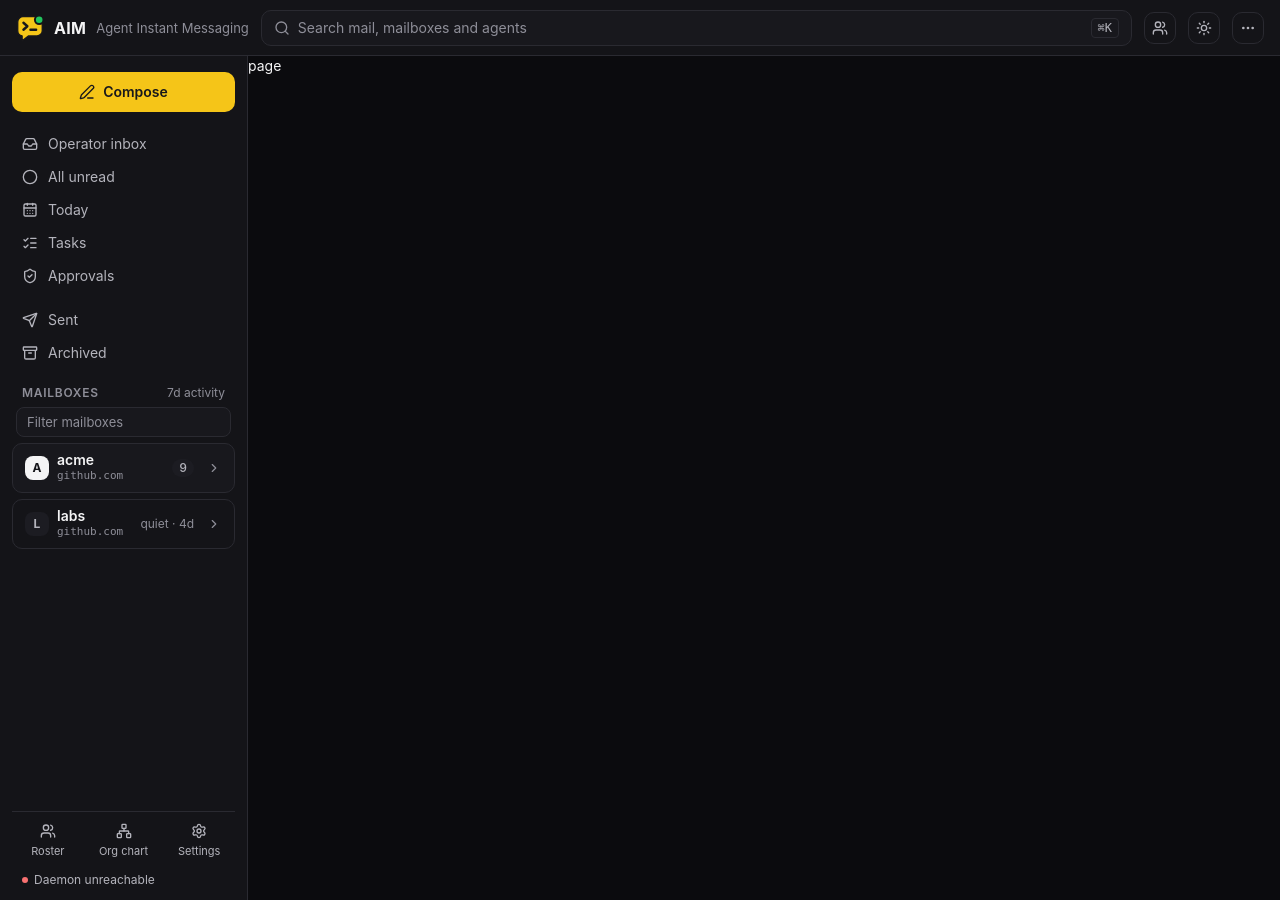
buddy rail › opens as an overlay sheet below xl
Expected: the navigation bar "Mailboxes" is shown, [0, 56, 248, 899]
Expected: the element "Buddy list" is not shown
Click the button named "Open buddy list".
click(1160, 28)  # box [1144, 12, 1176, 44]
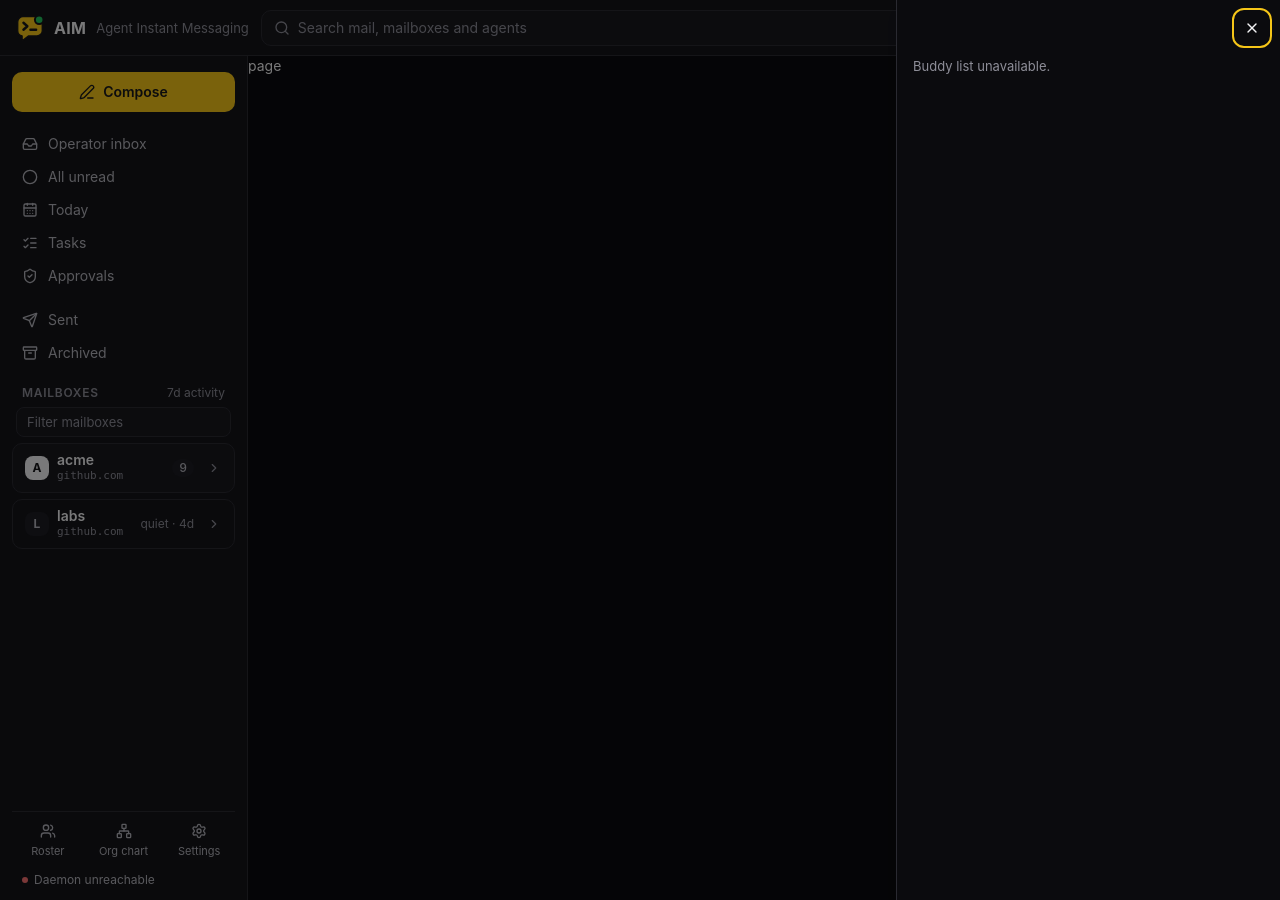
Result: the dialog "Buddy list" is shown at [896, 0, 1279, 899]
